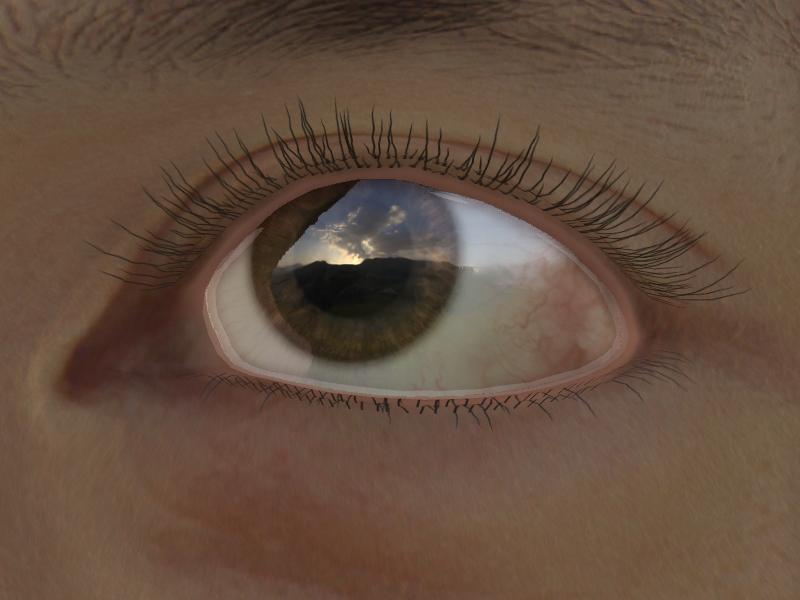eye: (252, 179, 463, 363)
